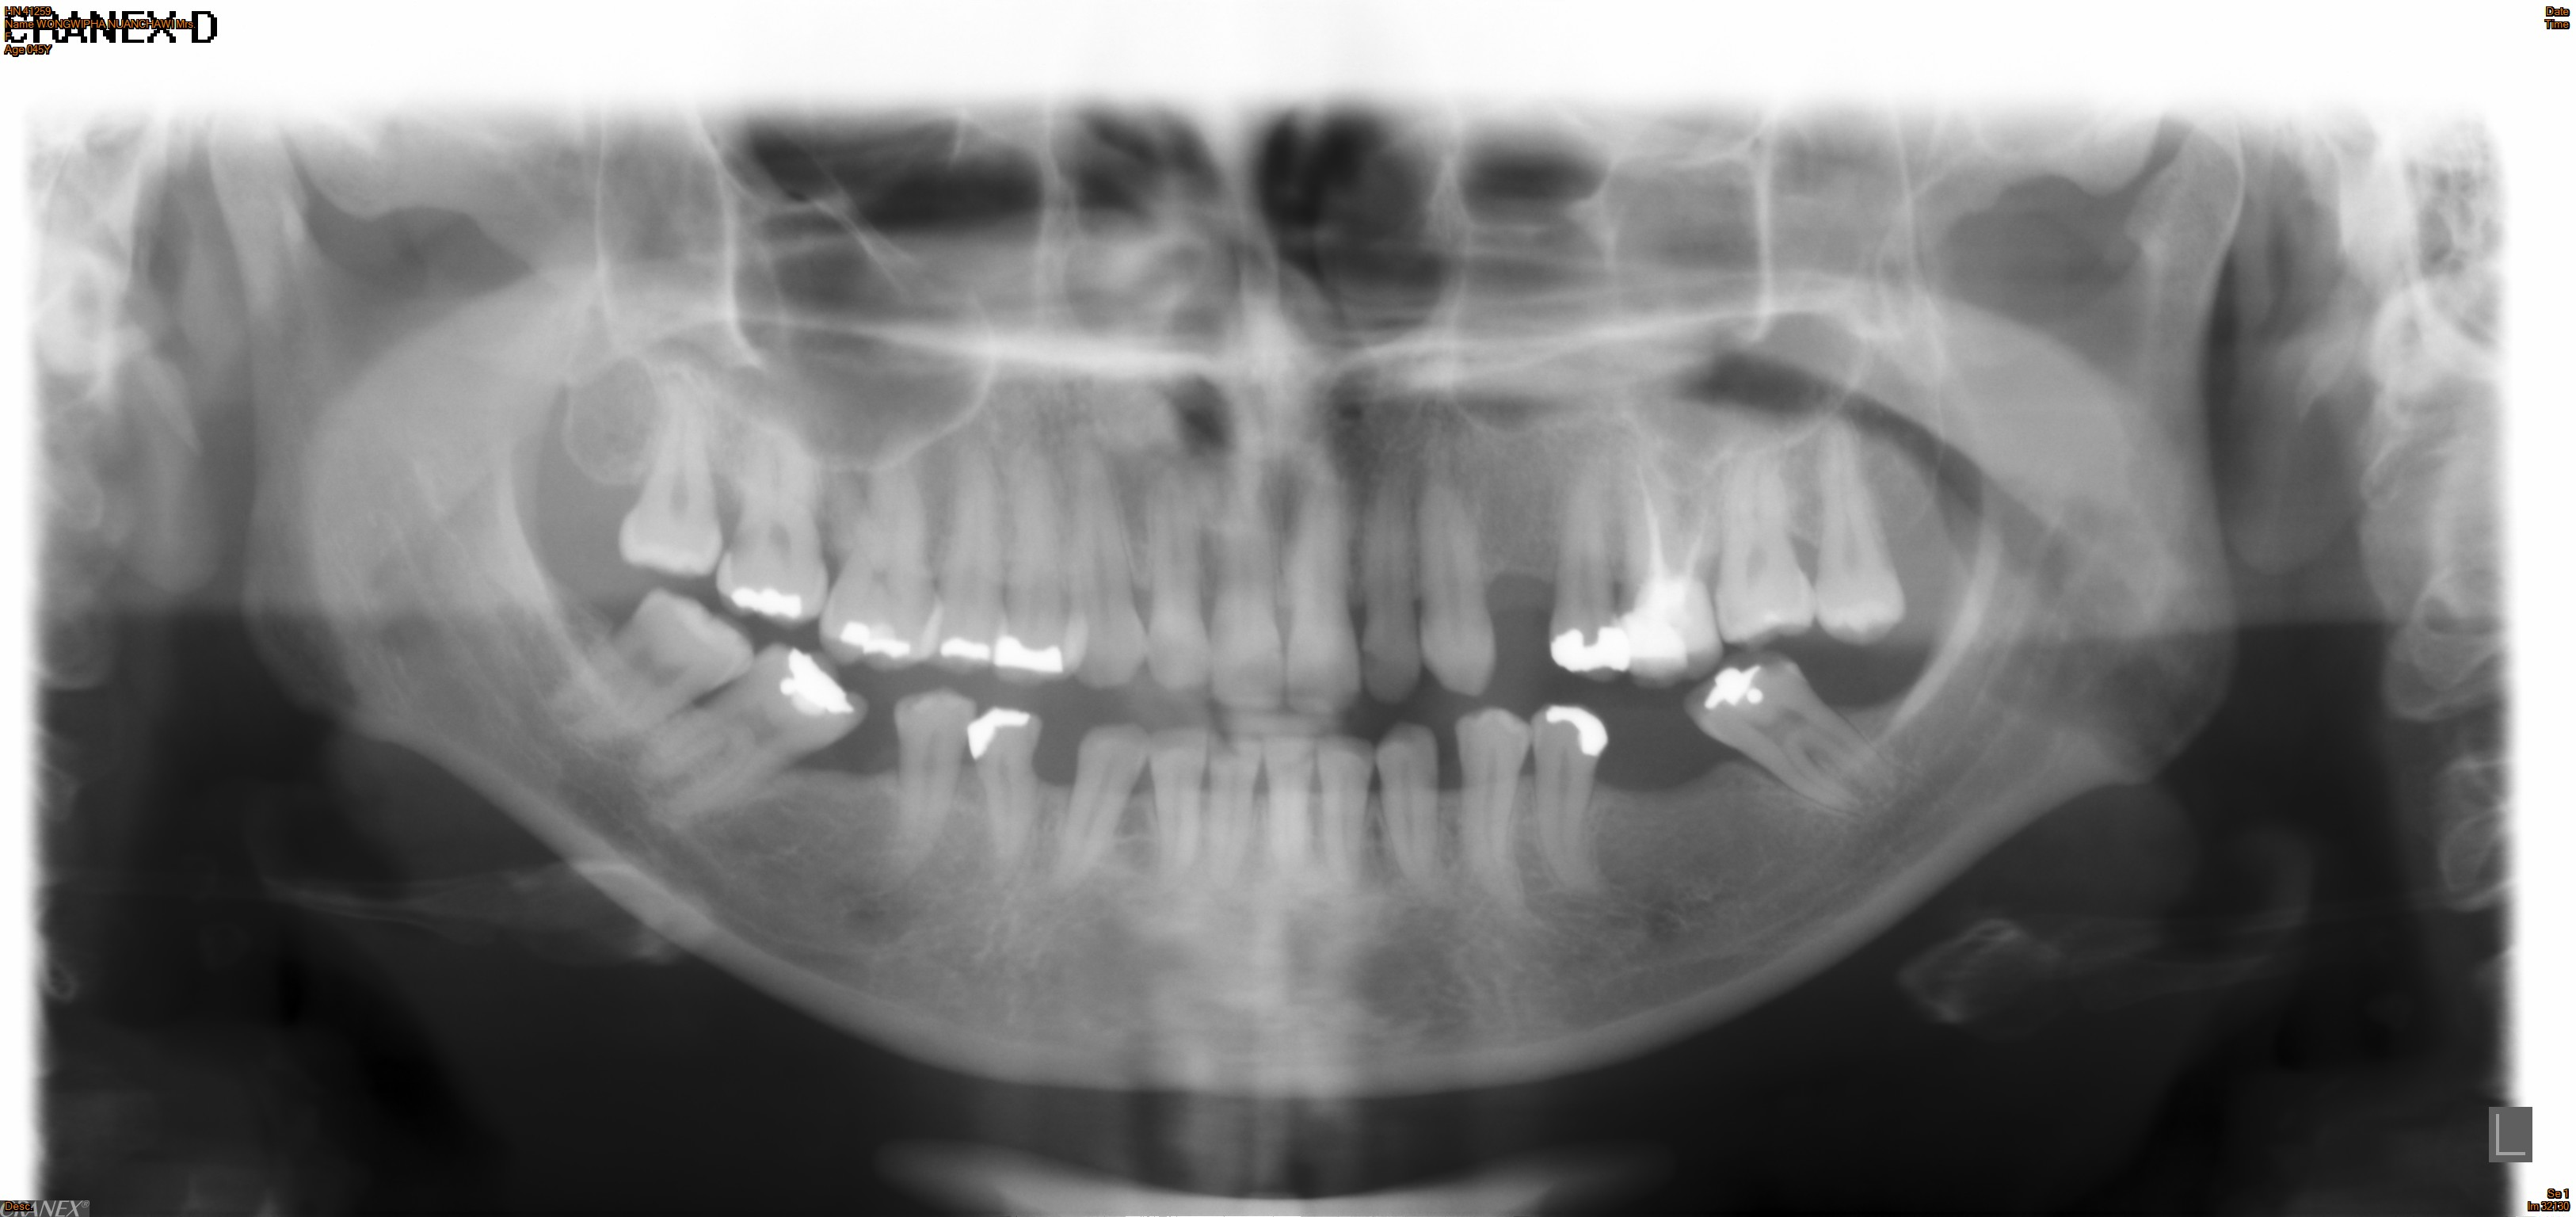periodontitis: (624, 632, 876, 838), (1676, 647, 1939, 828), (710, 394, 836, 634), (1699, 435, 1835, 654), (1539, 434, 1648, 690), (611, 368, 736, 585), (1406, 450, 1510, 700), (872, 677, 991, 892)
